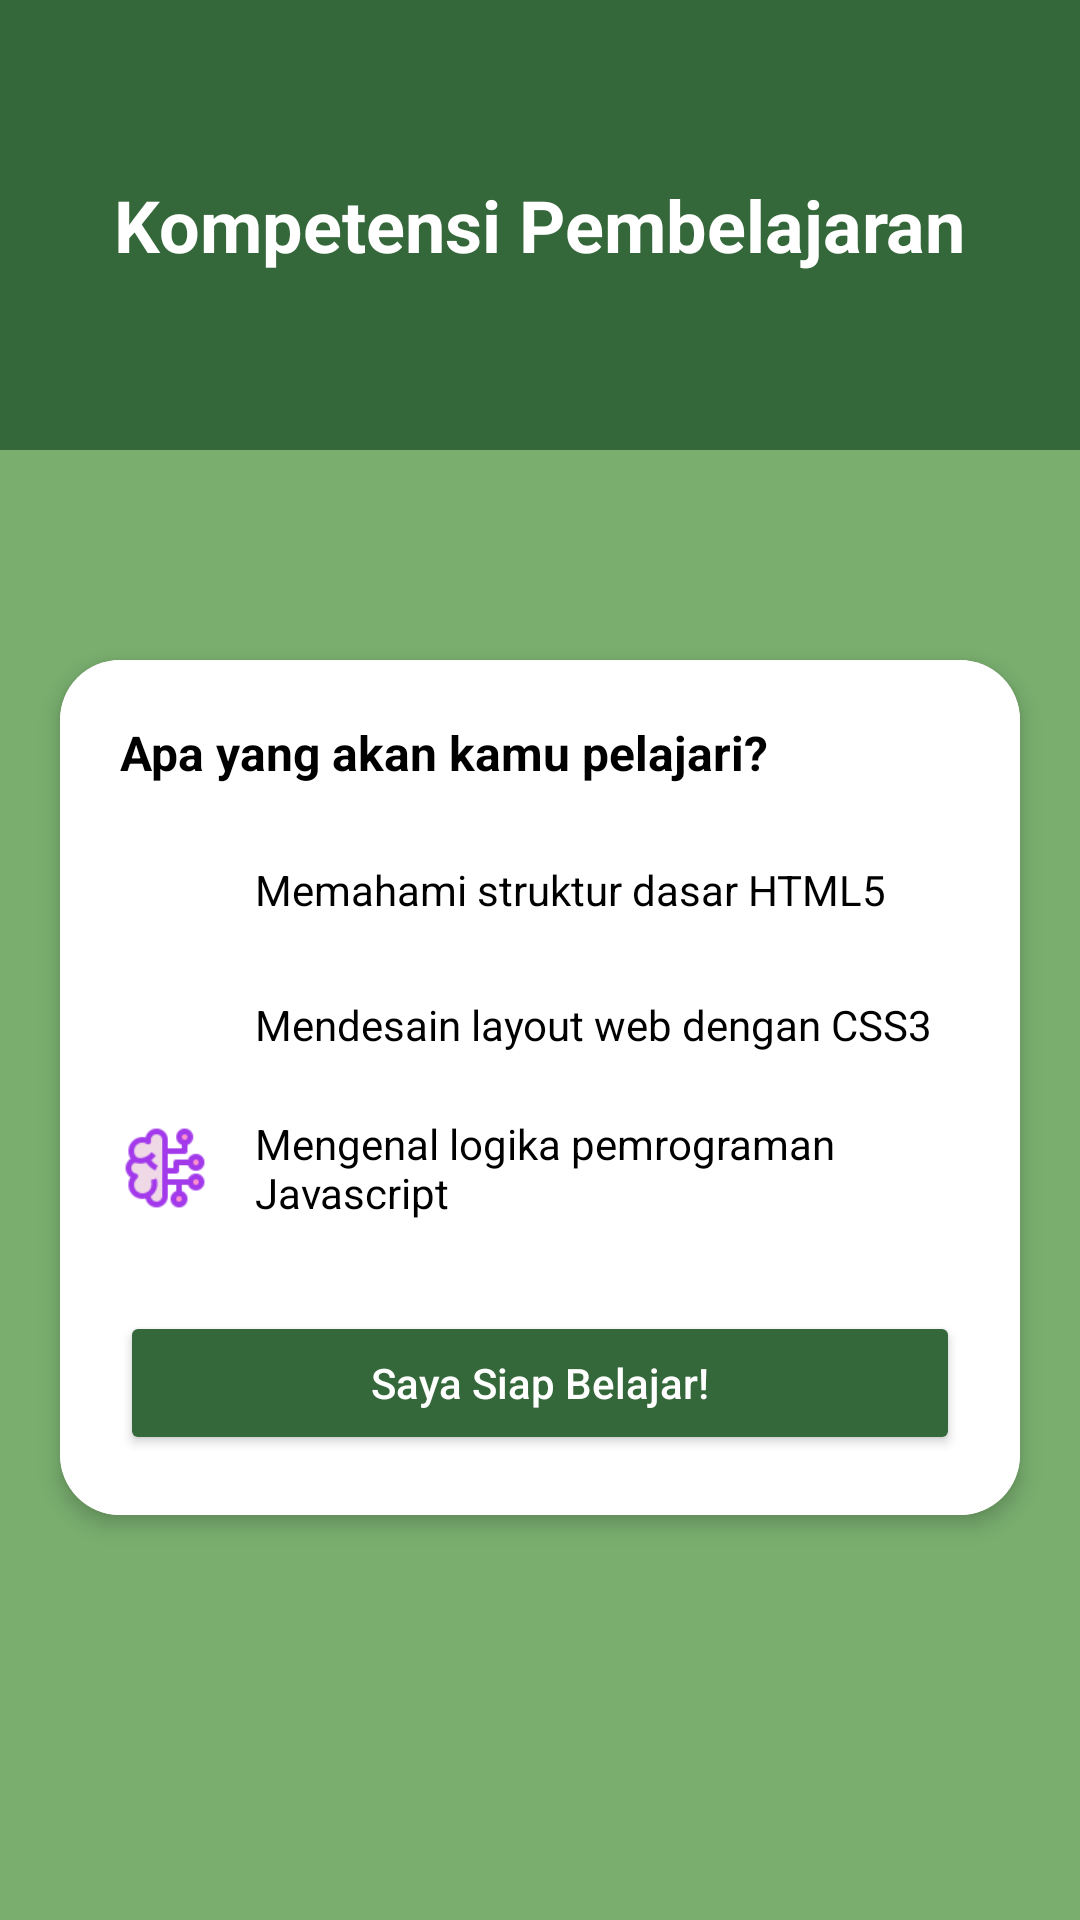

Locate icon controls on the screen. Image size 1080px x 1920px, boxes as bbox=[x1, y1, x2, y2].
logic: bbox=[125, 1128, 205, 1208]
